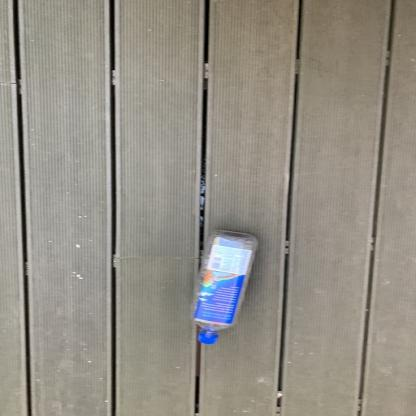trash: (187, 232, 262, 347)
